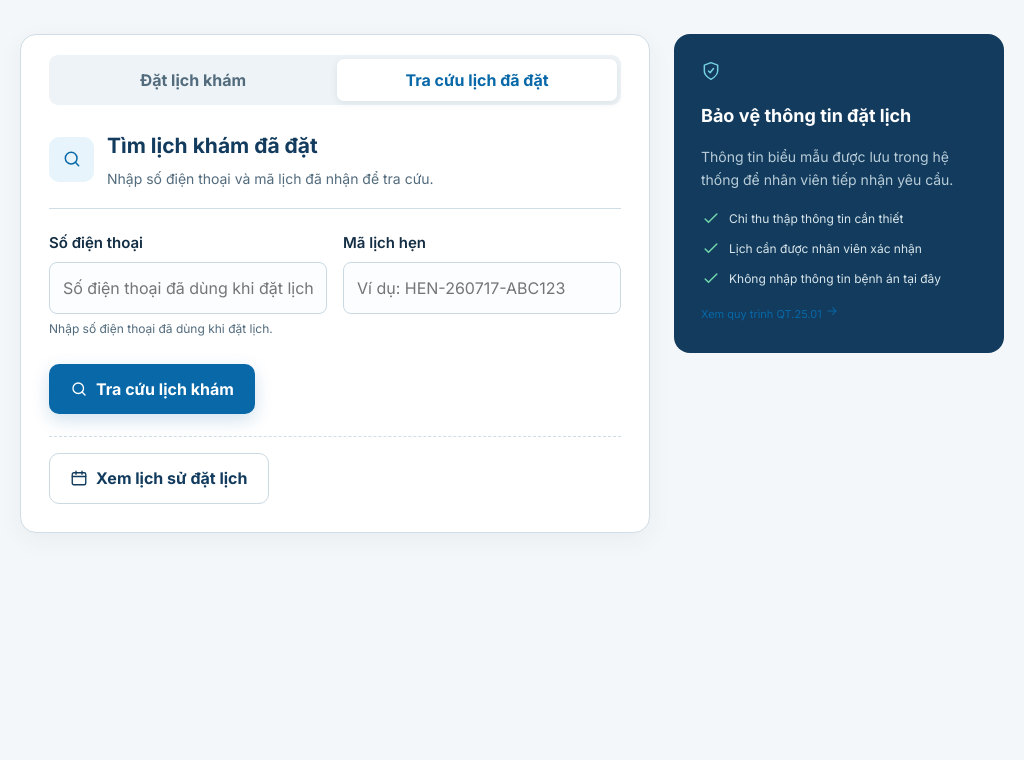
Test: patient prototype components › shows appointment history using only the phone number
In the field with placeholder "số điện thoại đã dùng khi đặt lịch": [188, 288] box left=49, top=262, right=327, bottom=314, type "0377325390"
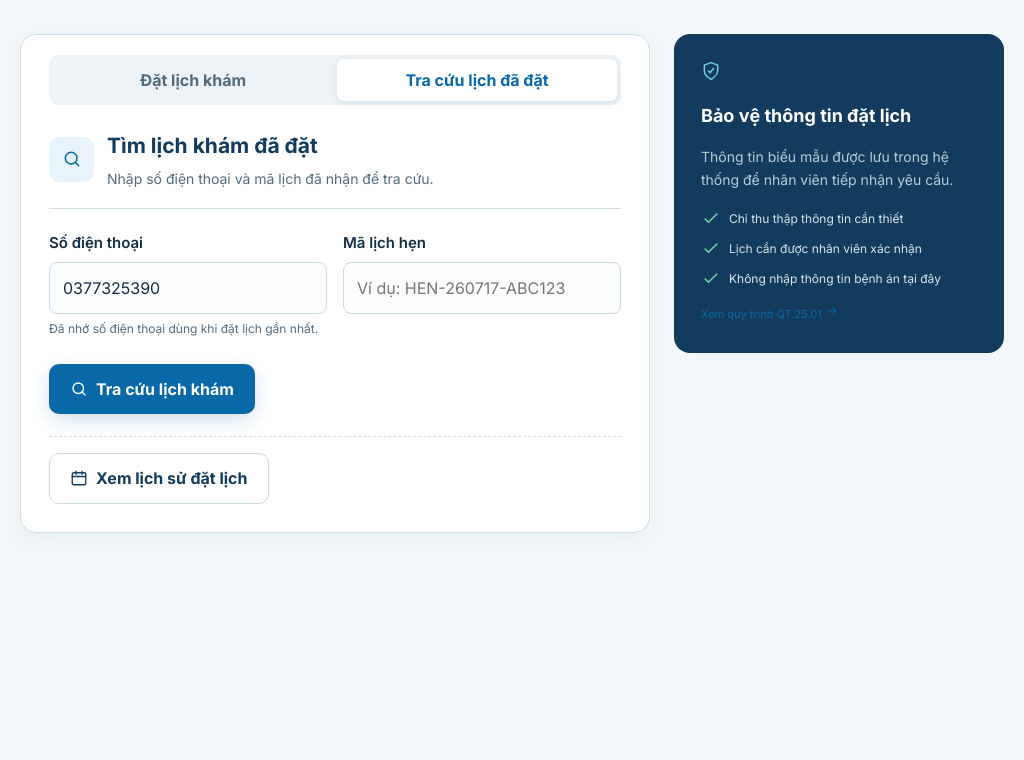
Click the button "Xem lịch sử đặt lịch": [159, 478] box left=49, top=453, right=268, bottom=504
(page scrolled)
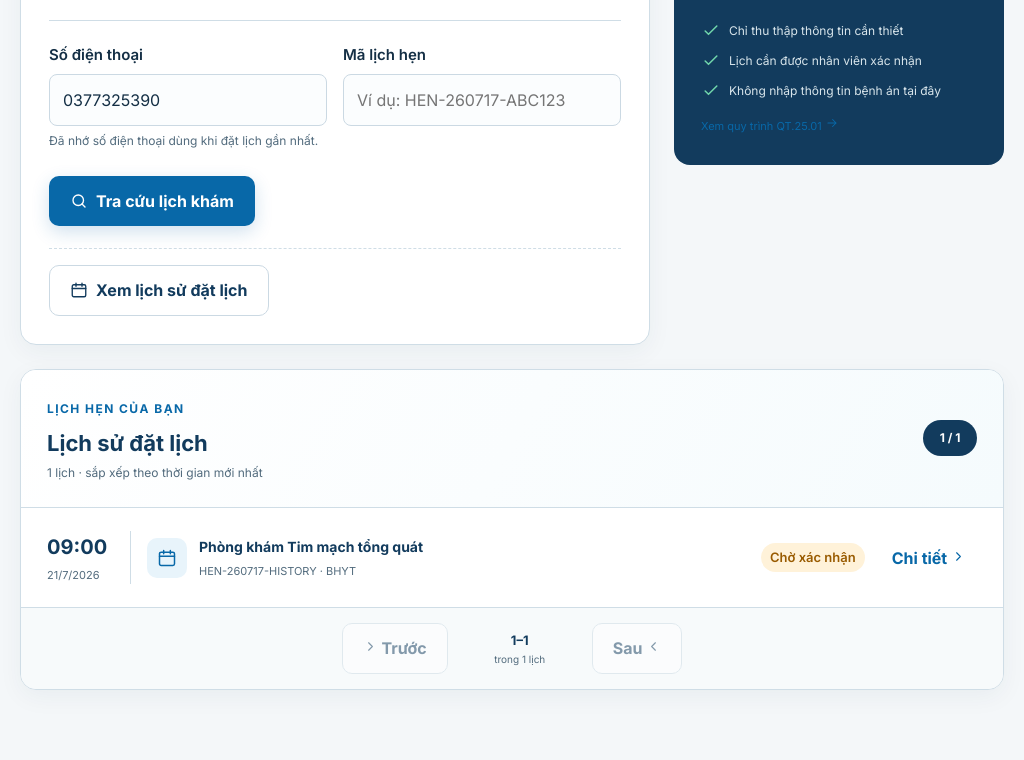
Now the text "HEN-260717-HISTORY · BHYT" is shown, box left=199, top=564, right=356, bottom=578
